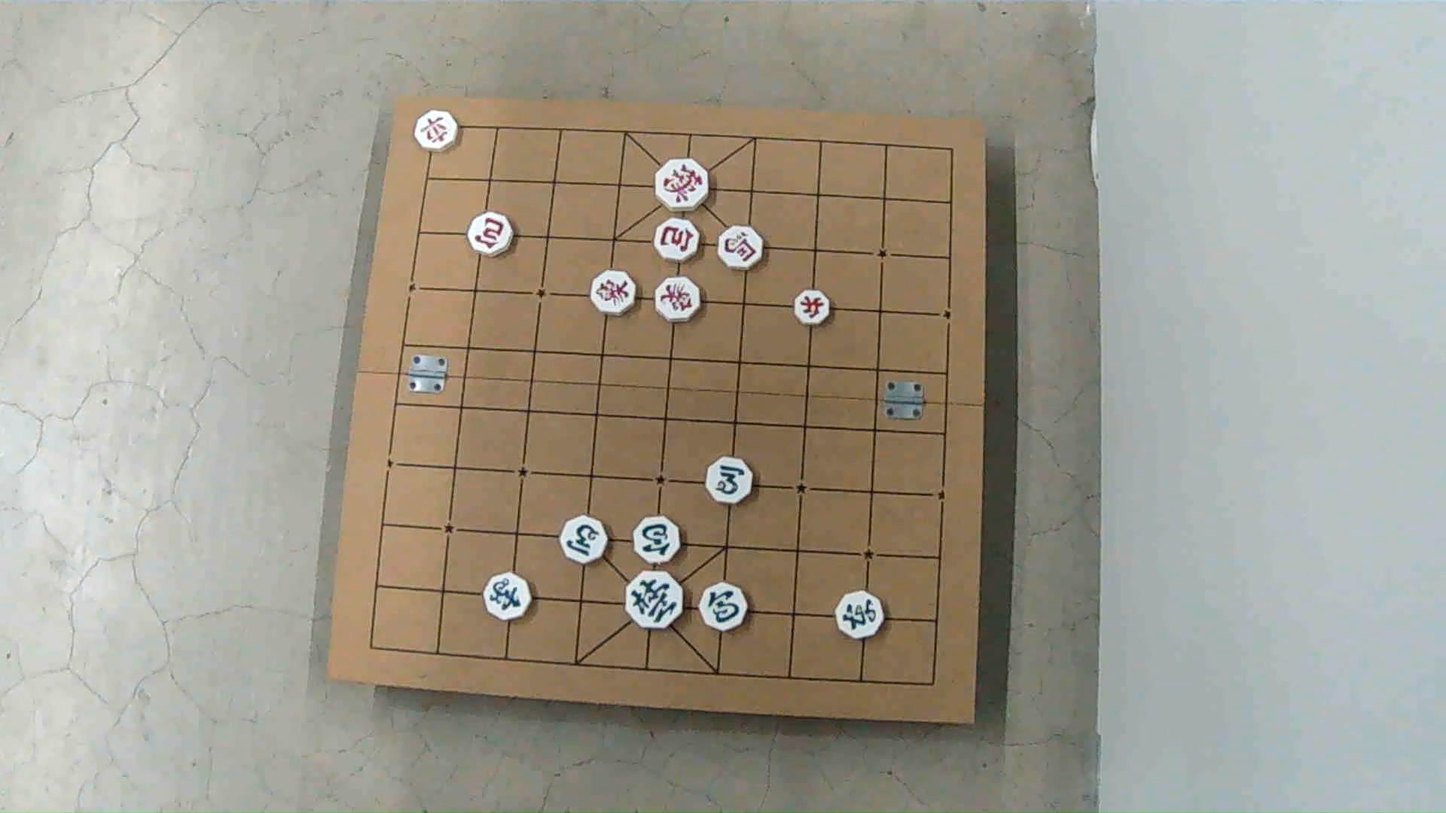cha_green: (838, 592, 886, 641)
cha_red: (413, 111, 456, 151)
jol_red: (795, 288, 830, 324)
ma_green: (560, 516, 609, 564), (705, 458, 752, 505)
ma_red: (717, 227, 763, 270)
po_green: (633, 516, 682, 564), (700, 583, 747, 631)
po_red: (653, 219, 698, 263), (469, 213, 514, 256)
sang_green: (482, 572, 530, 620)
sang_red: (654, 279, 700, 323), (593, 273, 638, 316)
wang_green: (625, 571, 683, 630)
wang_red: (654, 159, 707, 209)
